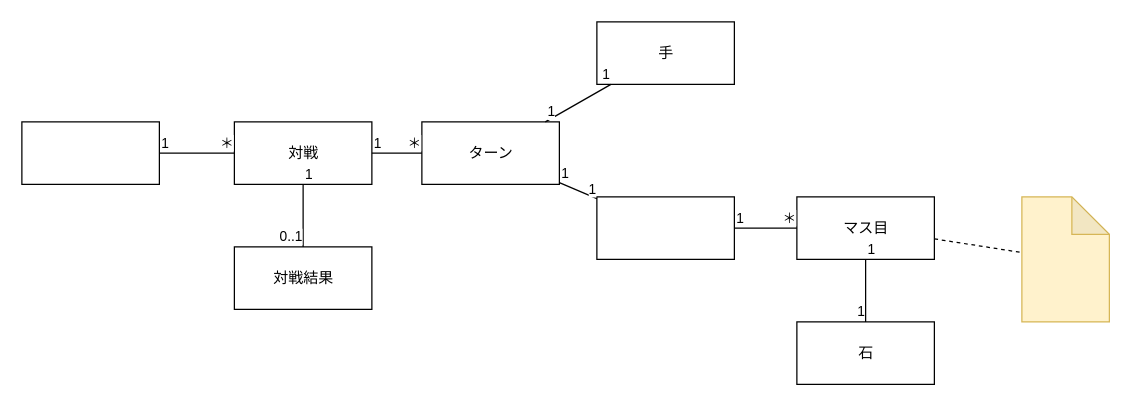
Image size: 1131x406. Some labels were removed from this diagram. The shapes that lost their labels are listed below. From the top down, each one's centre as x and y in pixels, then its label:
(90,152): player
(665,227): 盤面
(1065,259): 石の種類 ・空 ・黒 ・白
